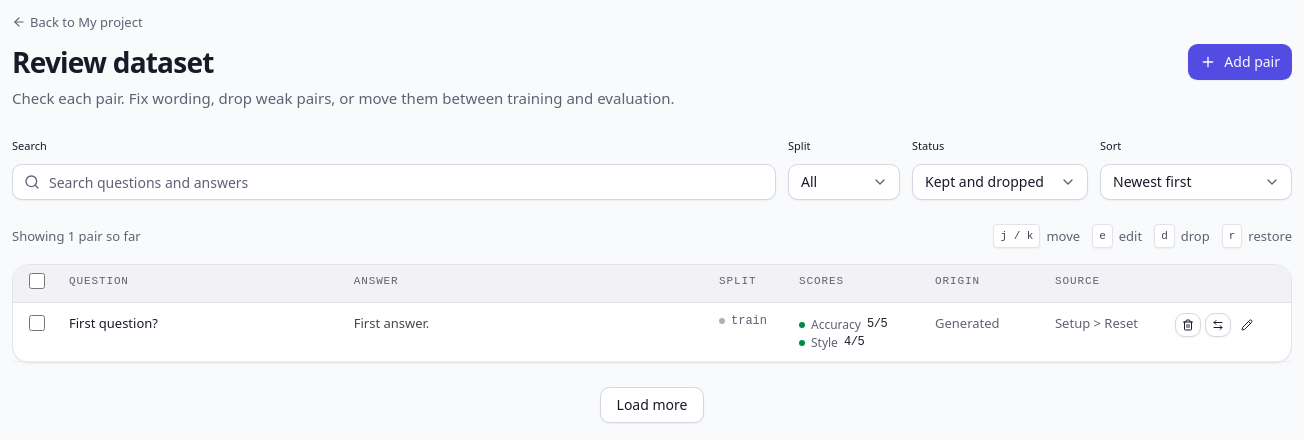
Scenario: ReviewTable › loads more with the opaque cursor
Click the button "Load more".
click(652, 405)  # box [600,387,704,423]
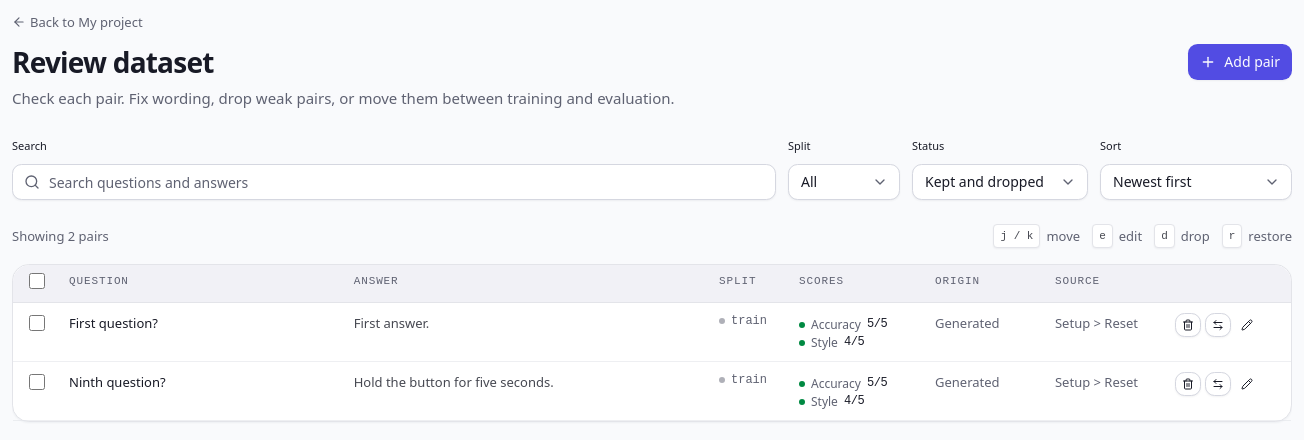
Check: the text "Ninth question?" is shown, box [69,373,166,391]
